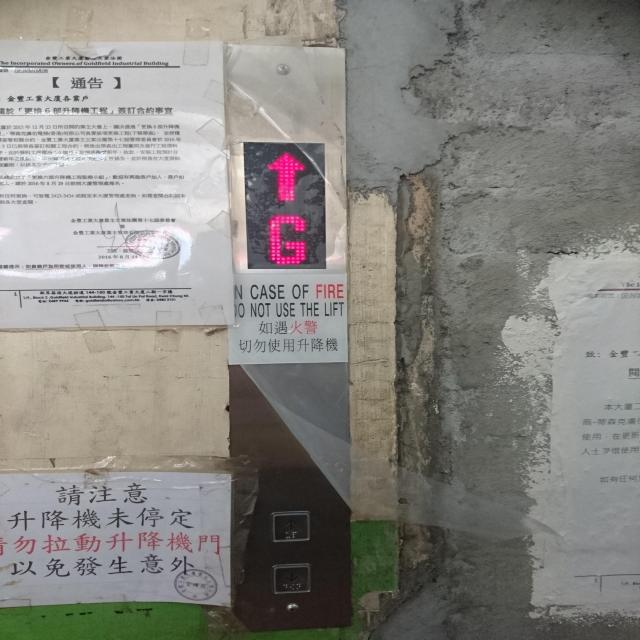down: (271, 562, 313, 596)
led: (241, 140, 329, 270)
up: (272, 511, 312, 544)
